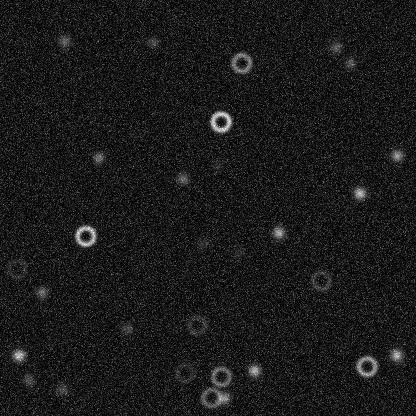Ring: (199, 385, 223, 409), (354, 354, 378, 378), (73, 223, 97, 247), (172, 360, 196, 384), (208, 364, 232, 388), (5, 256, 29, 280), (184, 312, 208, 336), (229, 50, 253, 74), (208, 109, 232, 133), (308, 268, 332, 292)
Spot: (216, 389, 232, 405), (33, 284, 49, 300), (342, 55, 358, 71), (144, 33, 160, 49), (54, 381, 70, 397), (388, 147, 404, 163), (194, 235, 210, 251), (20, 371, 36, 387), (90, 149, 106, 165), (327, 39, 343, 55), (246, 362, 262, 378), (119, 320, 135, 336), (10, 347, 26, 363), (174, 170, 190, 186), (231, 244, 247, 260), (208, 157, 224, 173), (270, 224, 286, 240), (56, 33, 72, 49), (351, 185, 367, 201), (388, 347, 404, 363)
